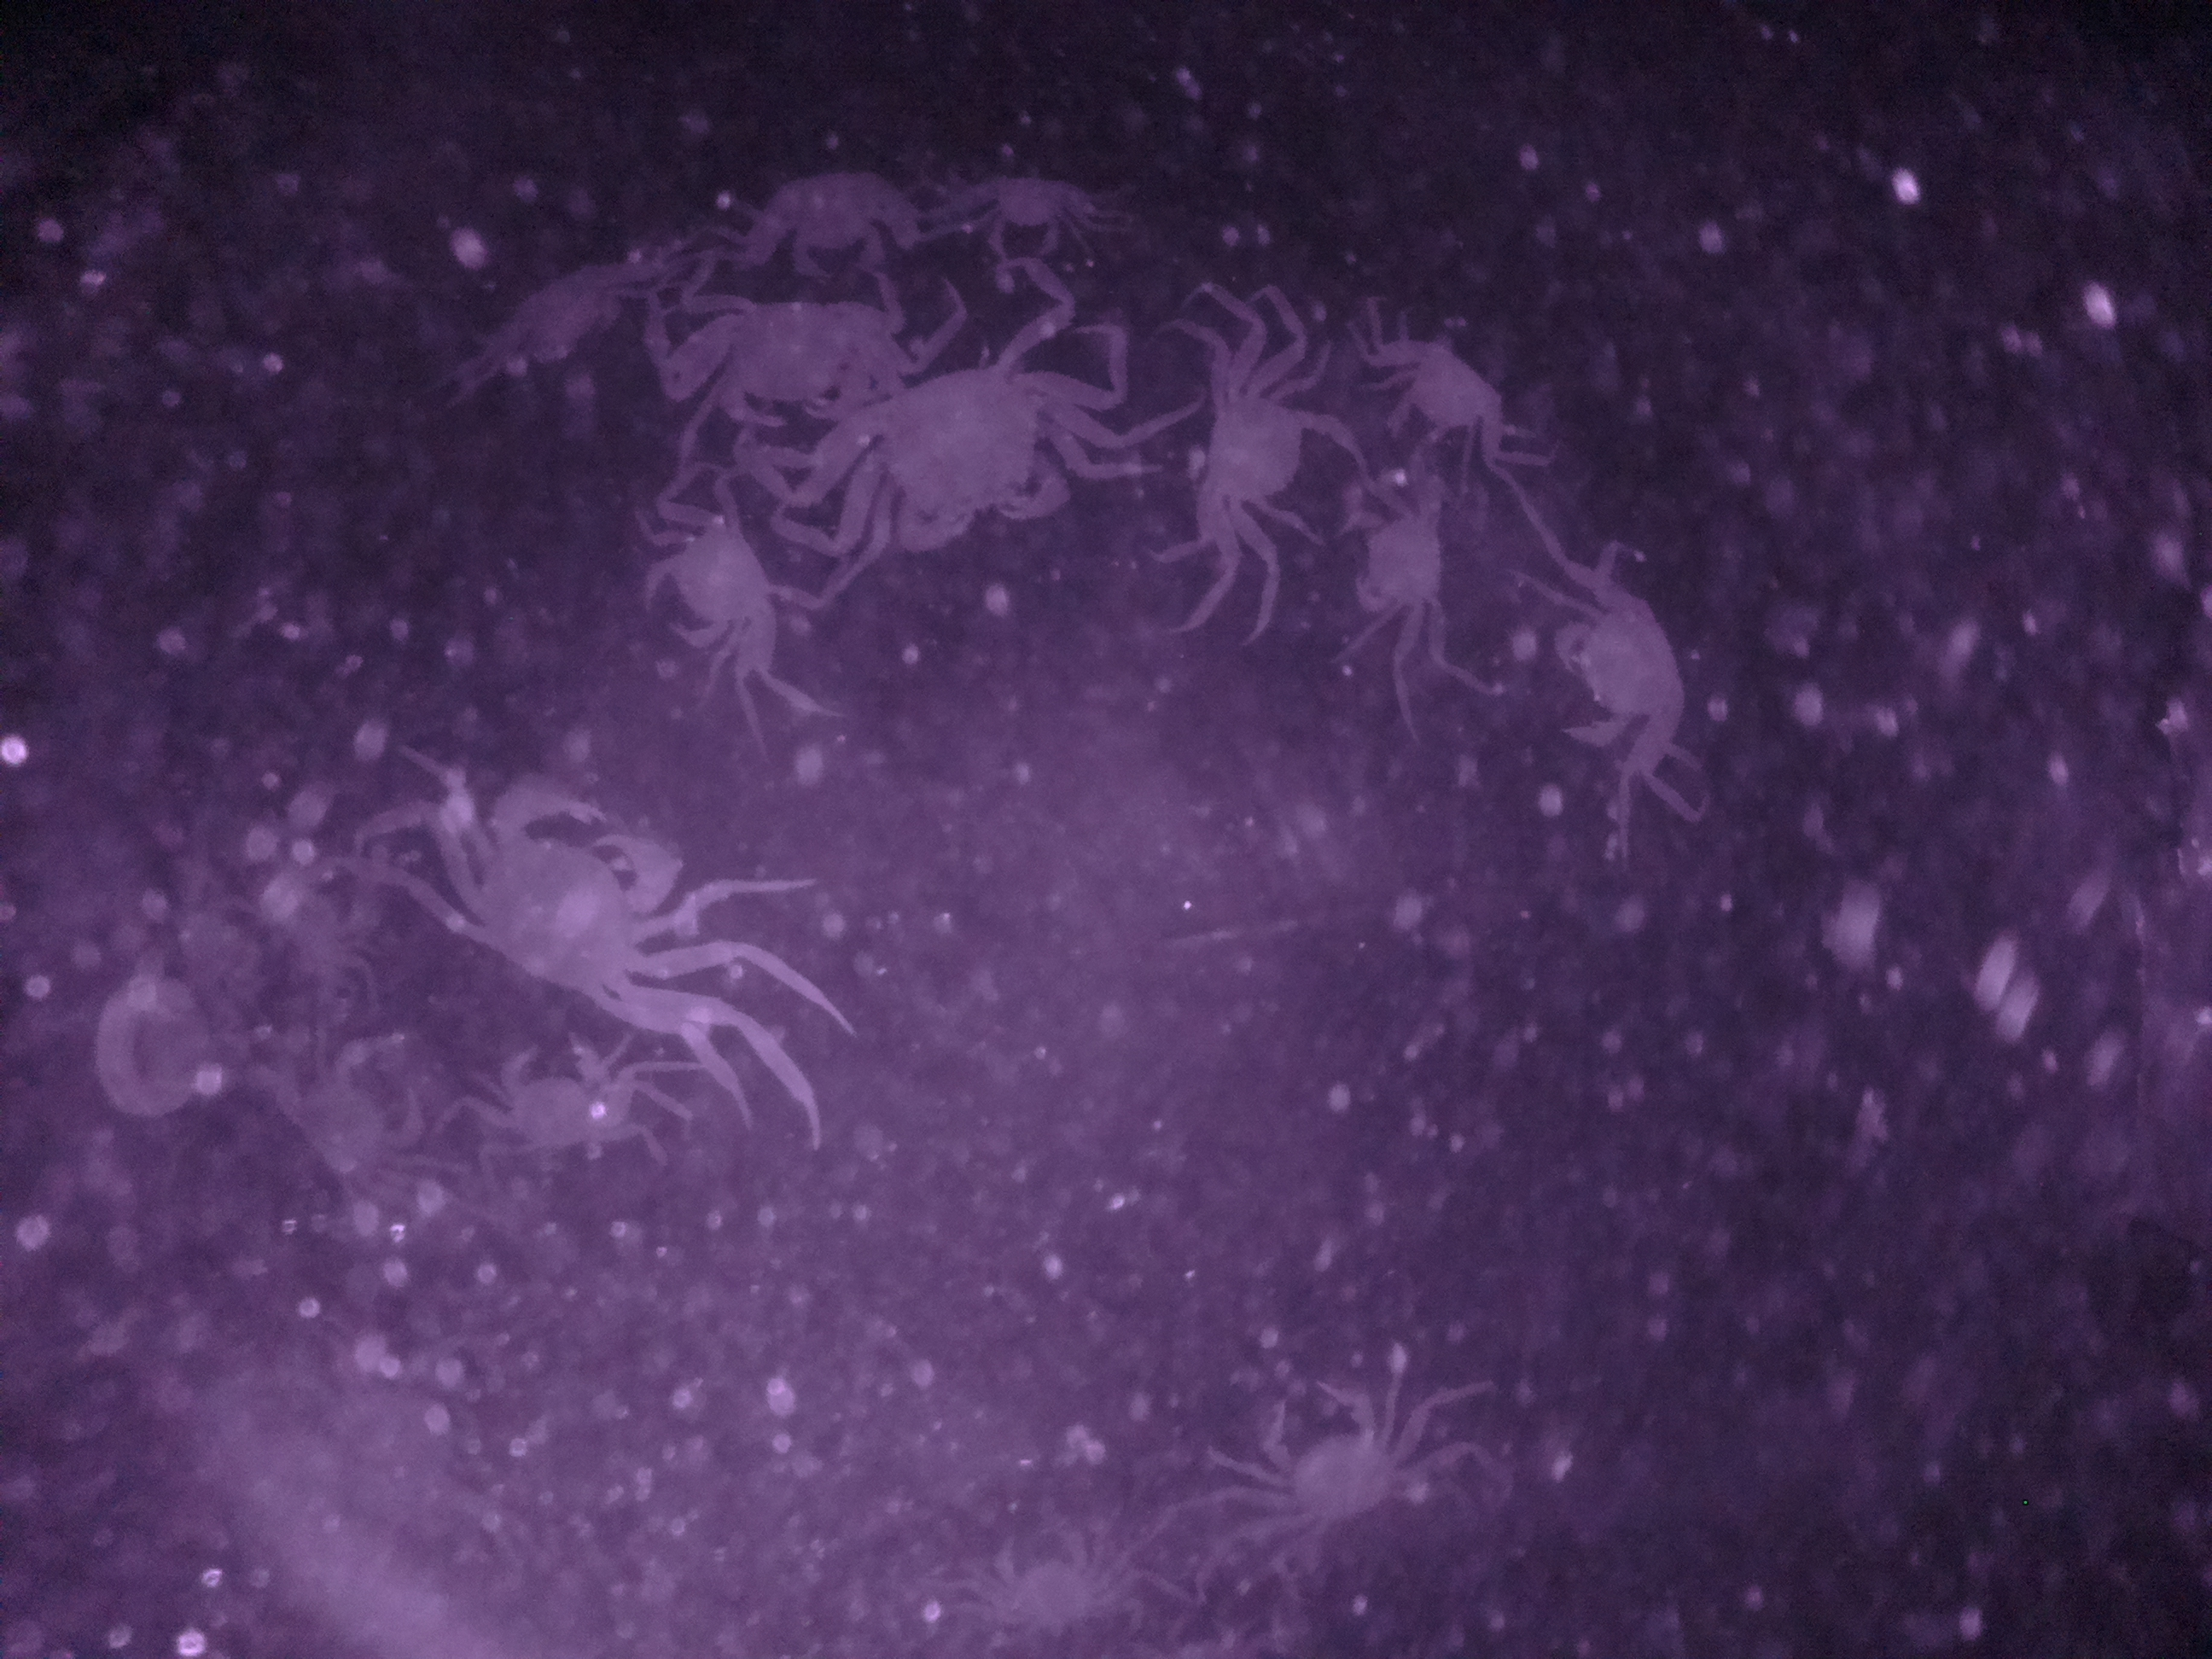Crab: (451, 753, 711, 1033), (834, 328, 1097, 556), (1242, 1359, 1426, 1567), (1527, 575, 1712, 772), (1167, 373, 1345, 537), (636, 488, 796, 666), (1317, 486, 1468, 647), (1379, 331, 1505, 450)
